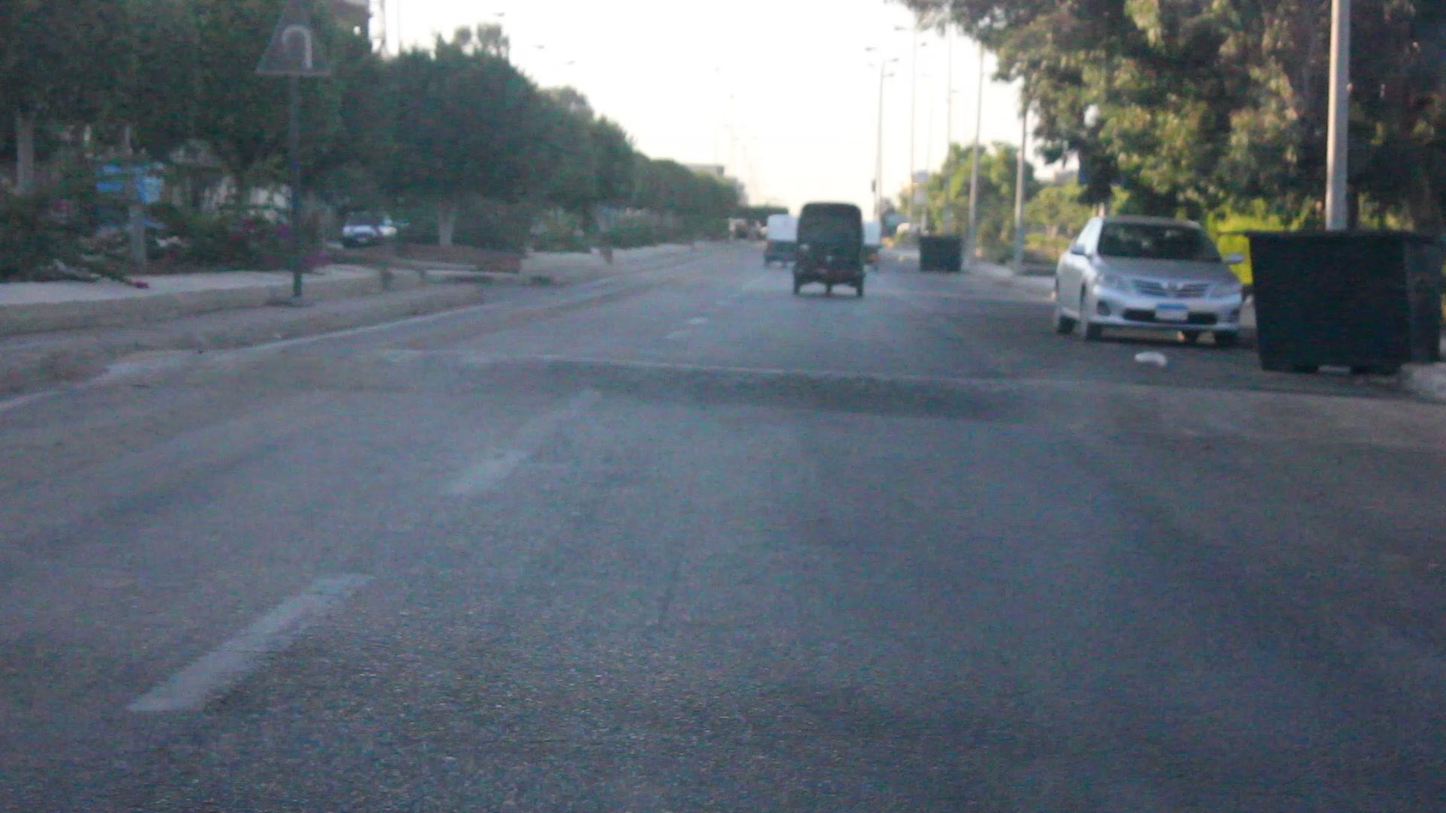Bump: (102, 345, 1445, 446)
